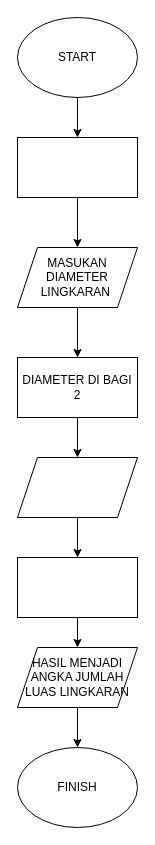
This 155x845 diagram has some shape labels left out. Here are the shapes that lost their labels. From the top down, the centre of each, then its label:
At (x=77, y=167): "CARI DIAMETER LINGKARAN".
At (x=77, y=487): "HASIL MENJADI JARI-JARI LINGKARAN".
At (x=77, y=587): "JARI-JARI LINGKARAN DI KUADRATKAN LALU DI KALIKAN PI".
